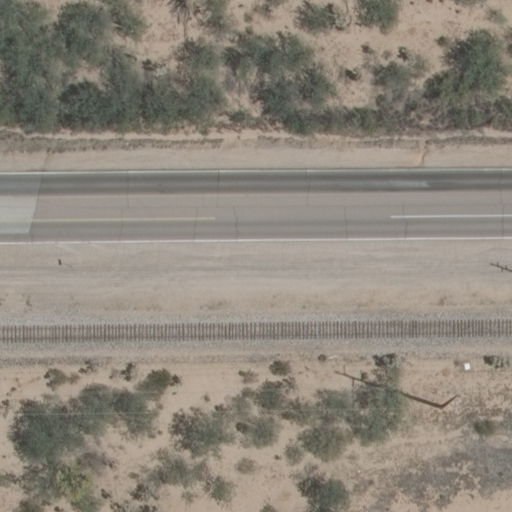DT: (439, 395, 461, 411)
